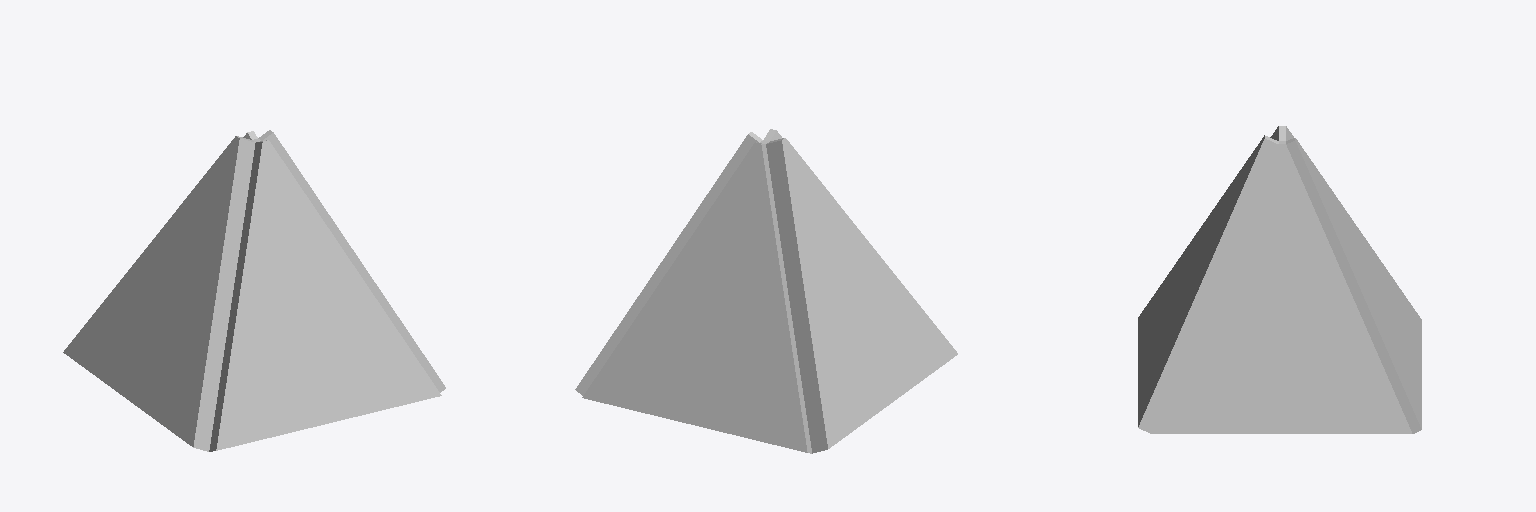
File: mine.obj
3 renders of one model, left to right at view 1: azimuth 30°, elevation 25°; view 2: azimuth 150°, elevation 25°; view 3: azimuth 270°, elevation 25°, orthographic.
Visible parts, largest first — view 1: Cube; view 2: Cube; view 3: Cube.
Part boxes in pixels (bbox=[...]): Cube: bbox=[63, 130, 445, 451]; Cube: bbox=[575, 129, 957, 453]; Cube: bbox=[1138, 126, 1421, 433].
Bounding box in the file's own units: 2.24 × 2.07 × 2.18.